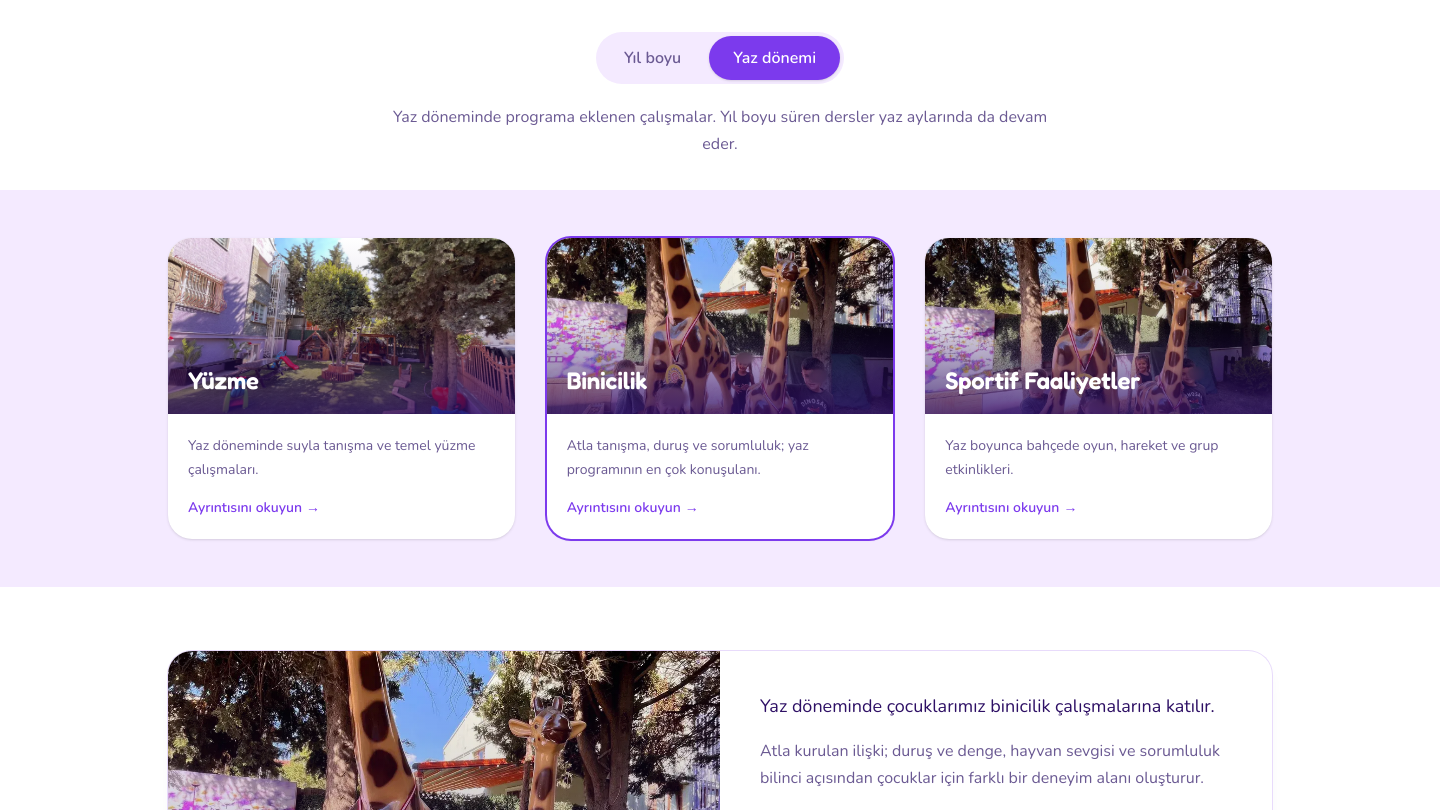
aktiviteler ziyaretçi HTML › ?ders= ile yaz dersi ve sekme geçişi çalışır; ayrıntı panosu seçili dersin alanlarını basar
Expected: the element with id "ders-detay" shows "Yaz döneminde çocuklarımız binicilik çalışmalarına katılır.", [760,694,1214,718]
Click the tab "Yıl boyu" at (653, 58), box [600,36,705,80]
(page scrolled)
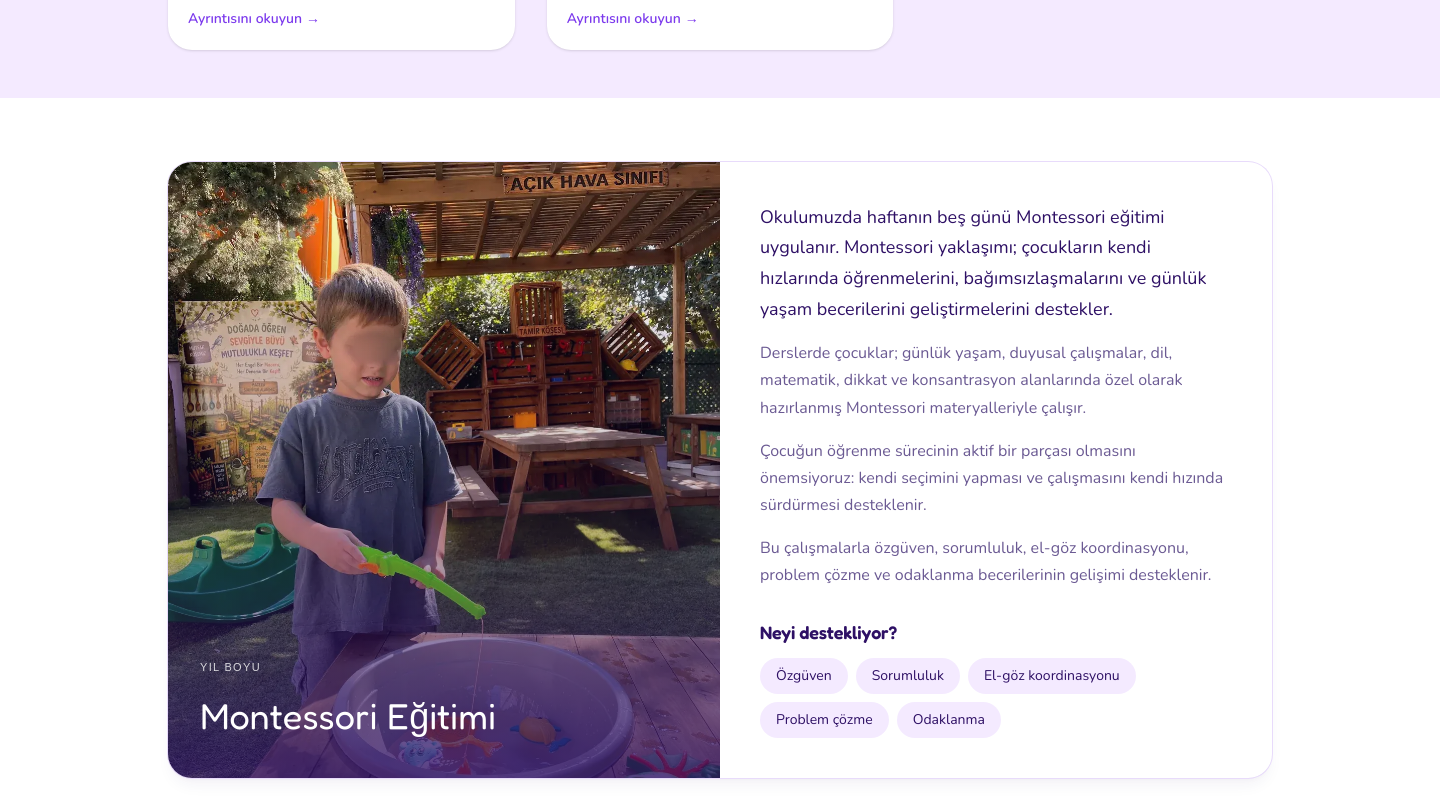
Result: the element with id "ders-detay" shows "Okulumuzda haftanın beş günü Montessori" at [760,205,1206,321]
